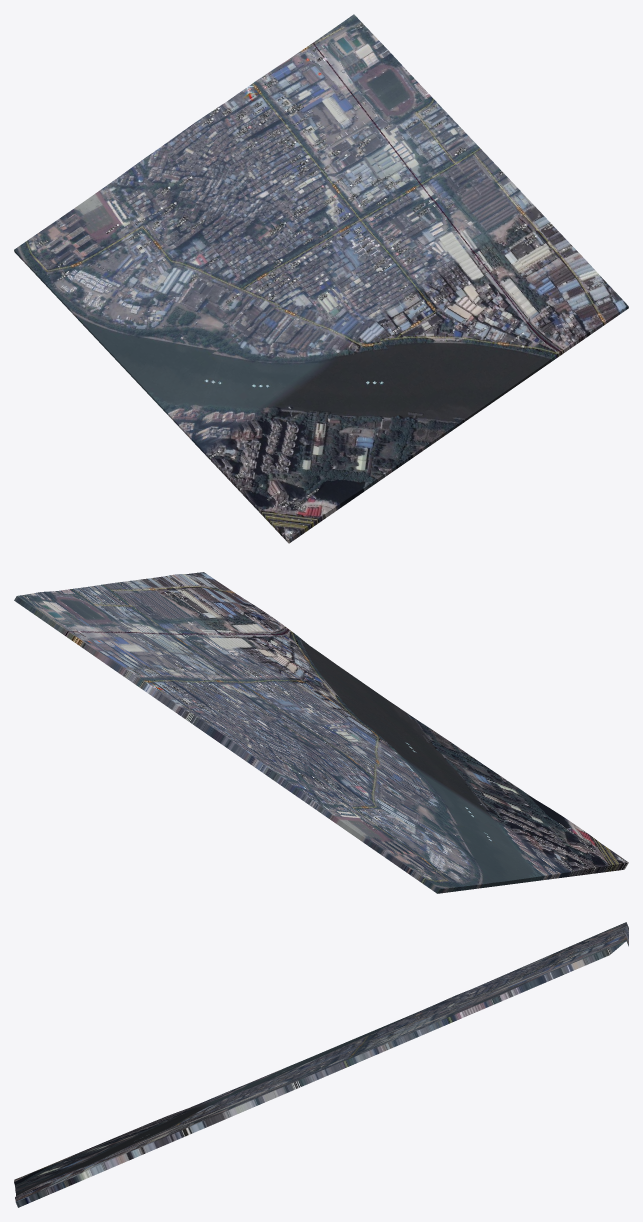
The picture shows the model from 3 angles, top to bottom: view 1: azimuth 30°, elevation 25°; view 2: azimuth 150°, elevation 25°; view 3: azimuth 270°, elevation 25°; orthographic projection. The views are drawn at different scales.
Visible parts, largest first — view 1: 1_3_1; view 2: 1_3_1; view 3: 1_3_1.
Part boxes in pixels (x1,y1,x2,y2): 1_3_1: [14, 14, 628, 543]; 1_3_1: [14, 572, 628, 893]; 1_3_1: [14, 922, 628, 1207].
Bounding box in the file's own units: 1227 × 893 × 1126.
1 material, 1 textured.
